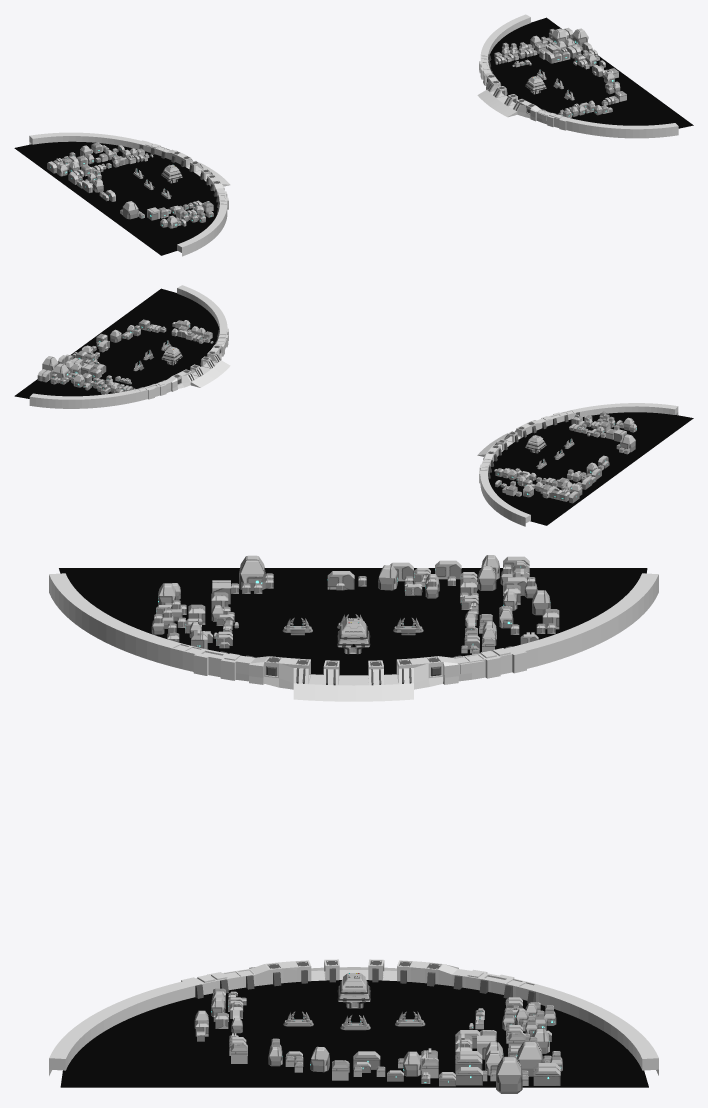
File: TBG_01.fbx
The picture shows the model from 3 angles, top to bottom: view 1: azimuth 30°, elevation 25°; view 2: azimuth 150°, elevation 25°; view 3: azimuth 270°, elevation 25°; orthographic projection. The views are drawn at different scales.
Parts seen in each view (by area): view 1: HQ FloorB, HQ Floor, HQ WallA, CBB, CBA, HQ WallB; view 2: HQ FloorB, HQ Floor, HQ WallA, CBB, CBA, HQ WallB; view 3: HQ Floor, HQ FloorB, HQ WallB, HQ WallA, CBA, CBB, HQ_B, HQ_A.
Part boxes in pixels (box(x1,y1,x2,y2)): HQ FloorB: box(14, 141, 217, 255); HQ Floor: box(490, 17, 693, 128); HQ WallA: box(477, 14, 678, 138); CBB: box(47, 142, 213, 228); CBA: box(494, 27, 626, 117); HQ WallB: box(29, 132, 230, 256); HQ FloorB: box(488, 412, 693, 525); HQ Floor: box(14, 288, 219, 398); HQ WallA: box(29, 285, 230, 408); CBB: box(494, 411, 636, 503); CBA: box(37, 319, 213, 394); HQ WallB: box(477, 403, 678, 526); HQ Floor: box(60, 980, 648, 1087); HQ FloorB: box(59, 568, 647, 675); HQ WallB: box(49, 573, 658, 701); HQ WallA: box(49, 959, 658, 1075); CBA: box(194, 988, 562, 1093); CBB: box(151, 555, 559, 654); HQ_B: box(337, 616, 370, 654); HQ_A: box(337, 973, 370, 1008).
Bounding box in the file's own units: 2622 × 90.78 × 1290.
